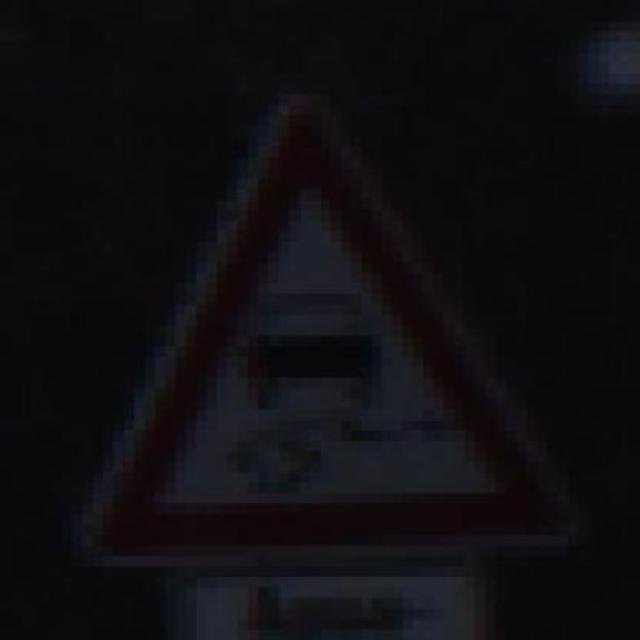Slippery Road Ahead: (60, 85, 566, 568)
